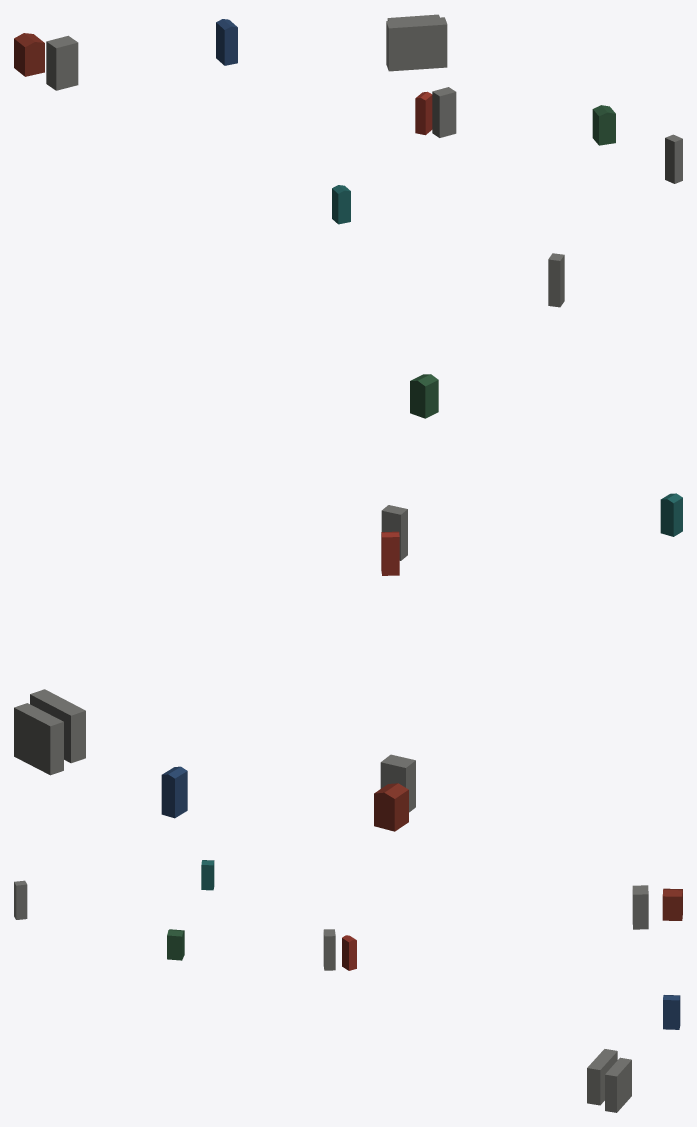
Rendered from near-15-27357-14860.fcc9d2e2.glb.
The picture shows the model from 3 angles, top to bottom: view 1: azimuth 30°, elevation 25°; view 2: azimuth 150°, elevation 25°; view 3: azimuth 270°, elevation 25°; orthographic projection. The views are drawn at different scales.
Bounding box in the file's own units: 223 × 120 × 408.
